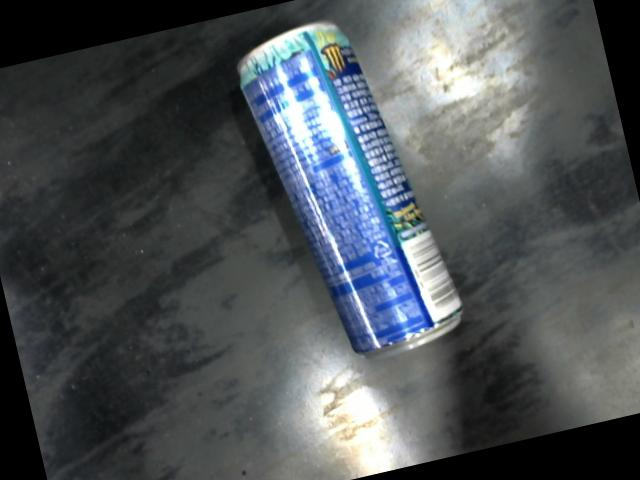can: (233, 17, 467, 363)
